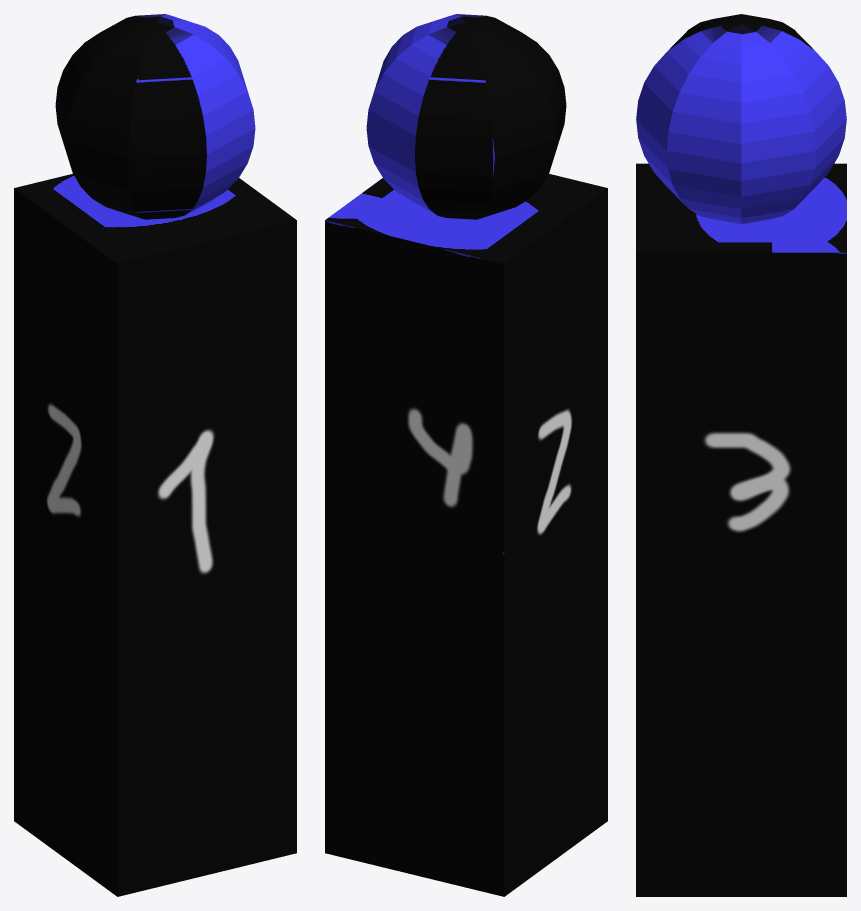
The model's file is MonumentoOtroUV.fbx.
3 renders of one model, left to right at view 1: azimuth 30°, elevation 25°; view 2: azimuth 150°, elevation 25°; view 3: azimuth 270°, elevation 25°, orthographic.
Parts seen in each view (by area): view 1: Monumento; view 2: Monumento; view 3: Monumento.
Boxes of the visible parts, bbox=[...] form: Monumento: bbox=[14, 14, 296, 896]; Monumento: bbox=[325, 14, 607, 896]; Monumento: bbox=[636, 14, 846, 896].
Size of the model in its own units: 200 by 868 by 200.
